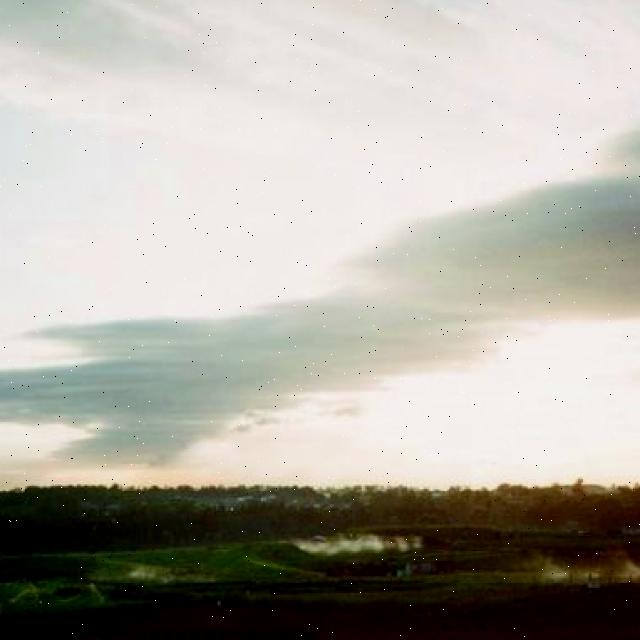Sc: (1, 69, 640, 437)
